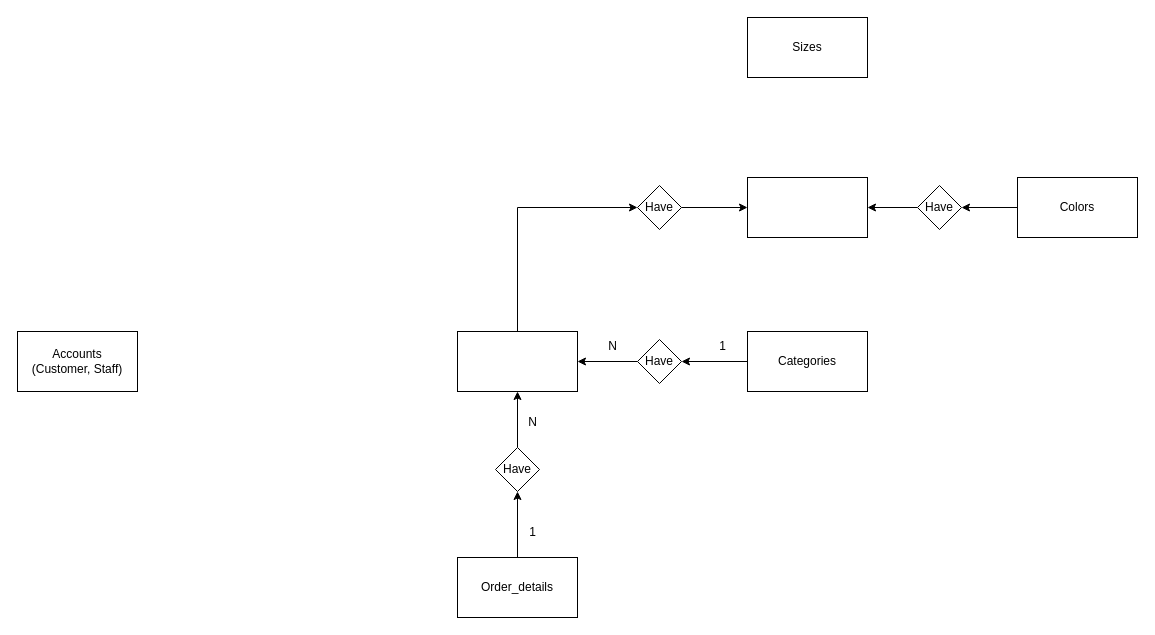
The diagram is 1155 pixels wide and 635 high, and some of its shapes have lost their labels. The shapes that lost their labels are listed below. From the top down, each one's centre as x and y in pixels, then its label:
At (x=807, y=207): "Color_Details".
At (x=517, y=361): "Products".
